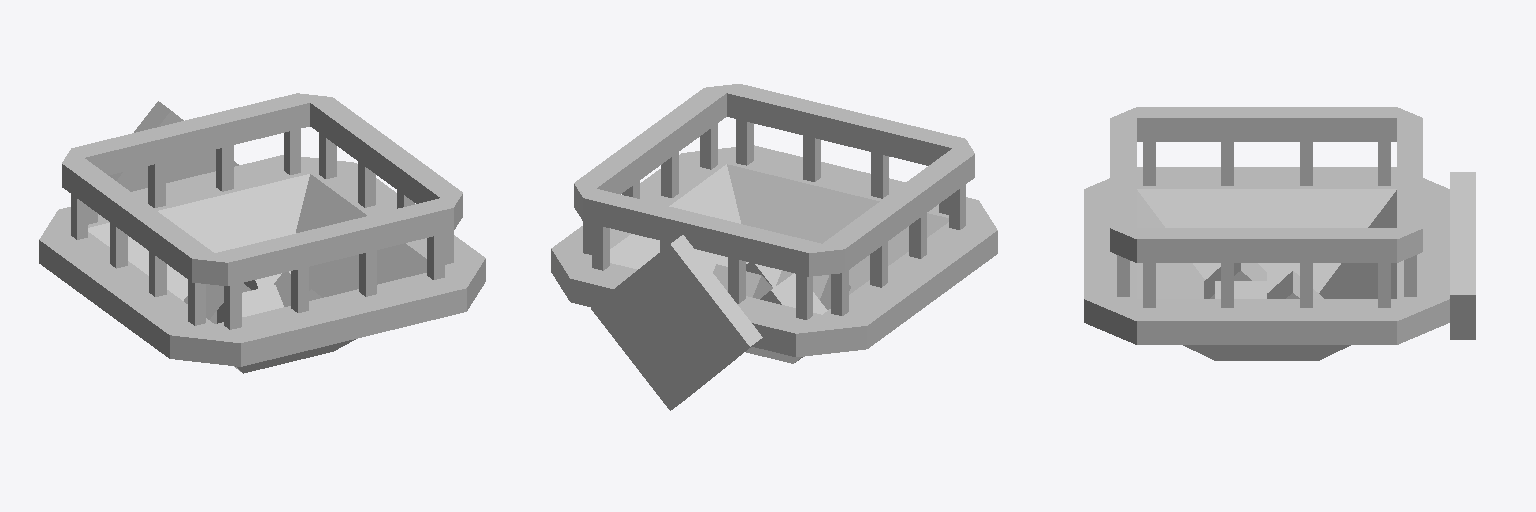
Rendered from brazier_wall.obj.
3 renders of one model, left to right at view 1: azimuth 30°, elevation 25°; view 2: azimuth 150°, elevation 25°; view 3: azimuth 270°, elevation 25°, orthographic.
Parts seen in each view (by area): view 1: BOWL_Cube.001, GRATING_Cube.006, COAL_Cube, WALL_MOUNT_Cube.005; view 2: GRATING_Cube.006, BOWL_Cube.001, WALL_MOUNT_Cube.005, COAL_Cube; view 3: BOWL_Cube.001, GRATING_Cube.006, WALL_MOUNT_Cube.005, COAL_Cube.
Part boxes in pixels (x1,y1,x2,y2): BOWL_Cube.001: (39,155,485,373); GRATING_Cube.006: (62,93,462,329); COAL_Cube: (184,271,321,323); WALL_MOUNT_Cube.005: (109,101,238,191); GRATING_Cube.006: (574,84,974,319); BOWL_Cube.001: (551,145,997,363); WALL_MOUNT_Cube.005: (591,235,762,410); COAL_Cube: (713,262,850,314); BOWL_Cube.001: (1084,167,1449,360); GRATING_Cube.006: (1110,107,1422,307); WALL_MOUNT_Cube.005: (1450,172,1475,339); COAL_Cube: (1204,263,1323,298).
Bounding box in the file's own units: 0.875 × 0.4419 × 0.9375.